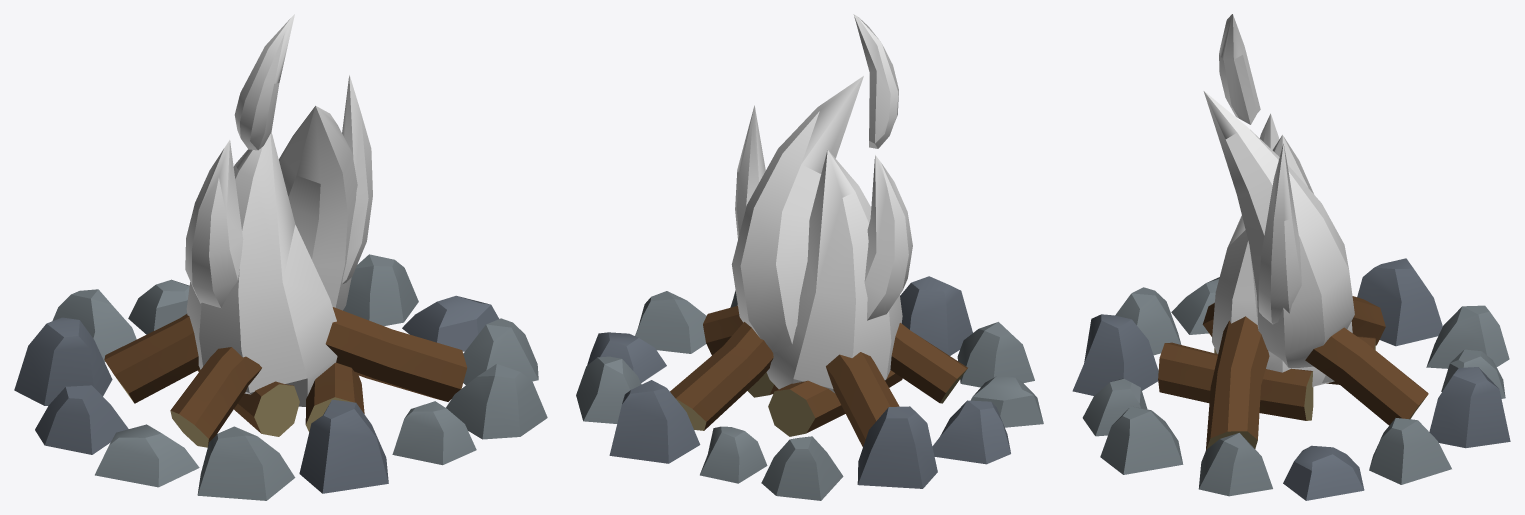
The model's file is v_bonfire_lit.glb.
3 views of the same model, side by side, from view 1: azimuth 30°, elevation 25°; view 2: azimuth 150°, elevation 25°; view 3: azimuth 270°, elevation 25° (orthographic). The views are drawn at different scales.
Visible parts, largest first — view 1: Bonfire_Lit; view 2: Bonfire_Lit; view 3: Bonfire_Lit.
Boxes of the visible parts, x1=… form: Bonfire_Lit: x1=14, y1=14, x2=547, y2=500; Bonfire_Lit: x1=576, y1=14, x2=1043, y2=500; Bonfire_Lit: x1=1072, y1=14, x2=1510, y2=500.
Size of the model in its own units: 0.4066 by 0.3529 by 0.3624.
